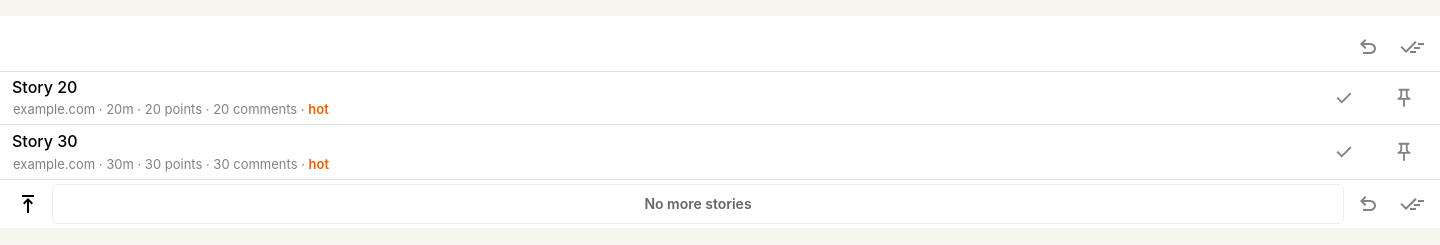
<StoryList> pin-on-left-swipe › pins a story after a left swipe past the threshold and persists the id
Press the mouse on the element with test id "story-row" that starts with "Story 20" at (720,98), box x1=0 y1=71 x2=1439 y2=124
Wait 300 ms
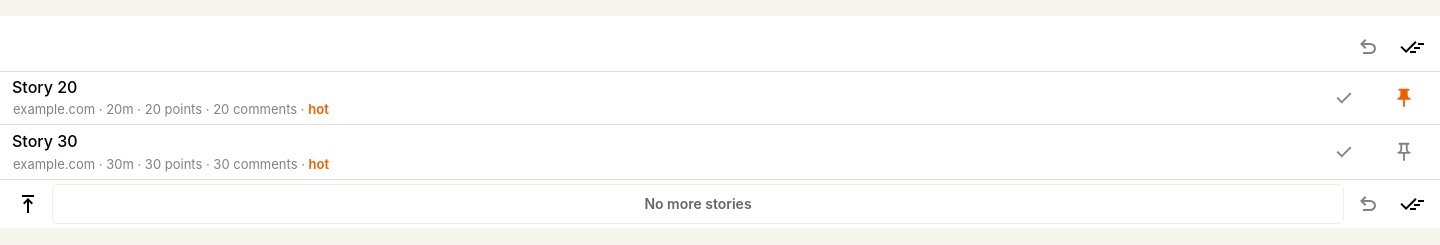
Check: the button with test id "pin-btn" is pressed, box x1=1380 y1=71 x2=1428 y2=124
